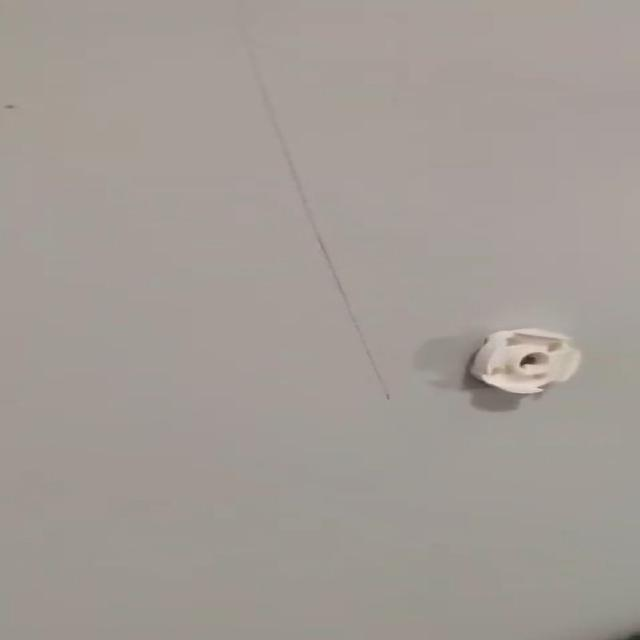S2x2x0: (467, 326, 581, 395)
